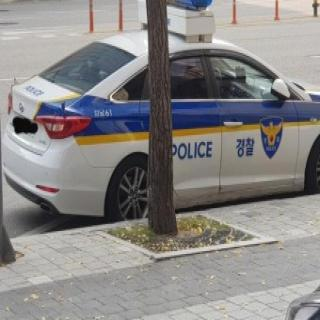Police_car: (0, 0, 320, 224)
